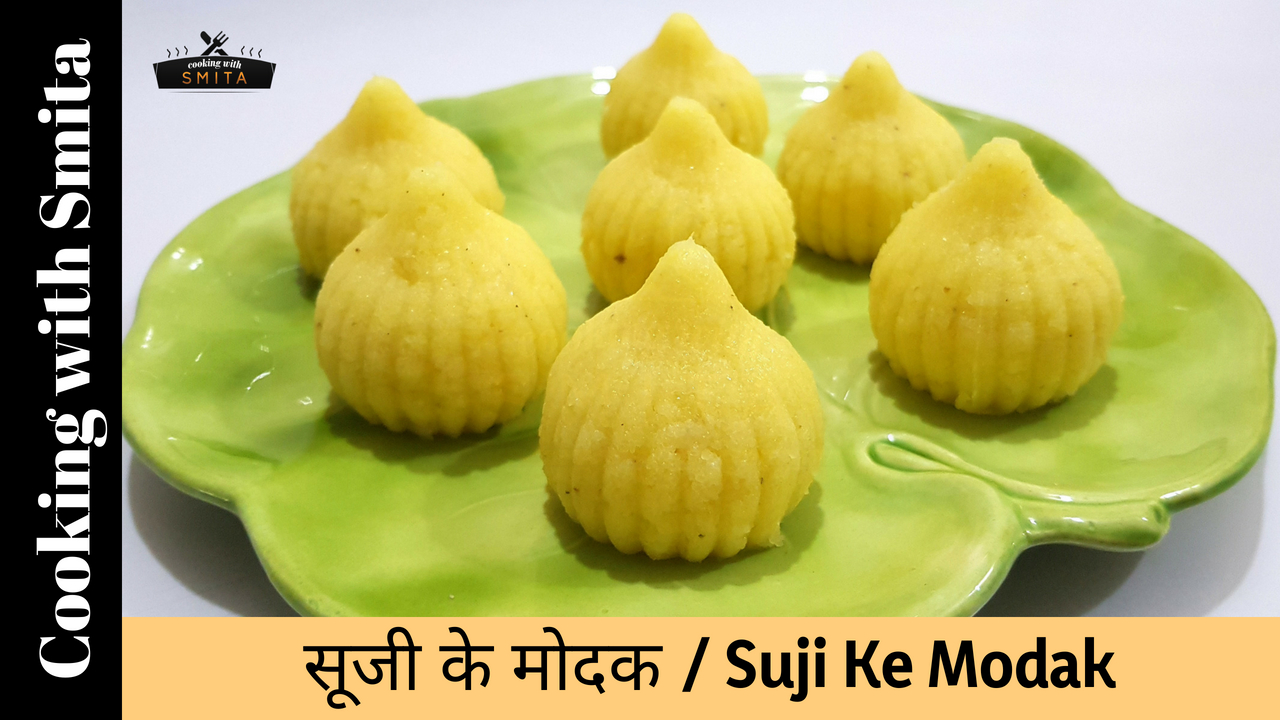modak: (557, 237, 815, 576), (880, 128, 1127, 418), (320, 177, 570, 433)
